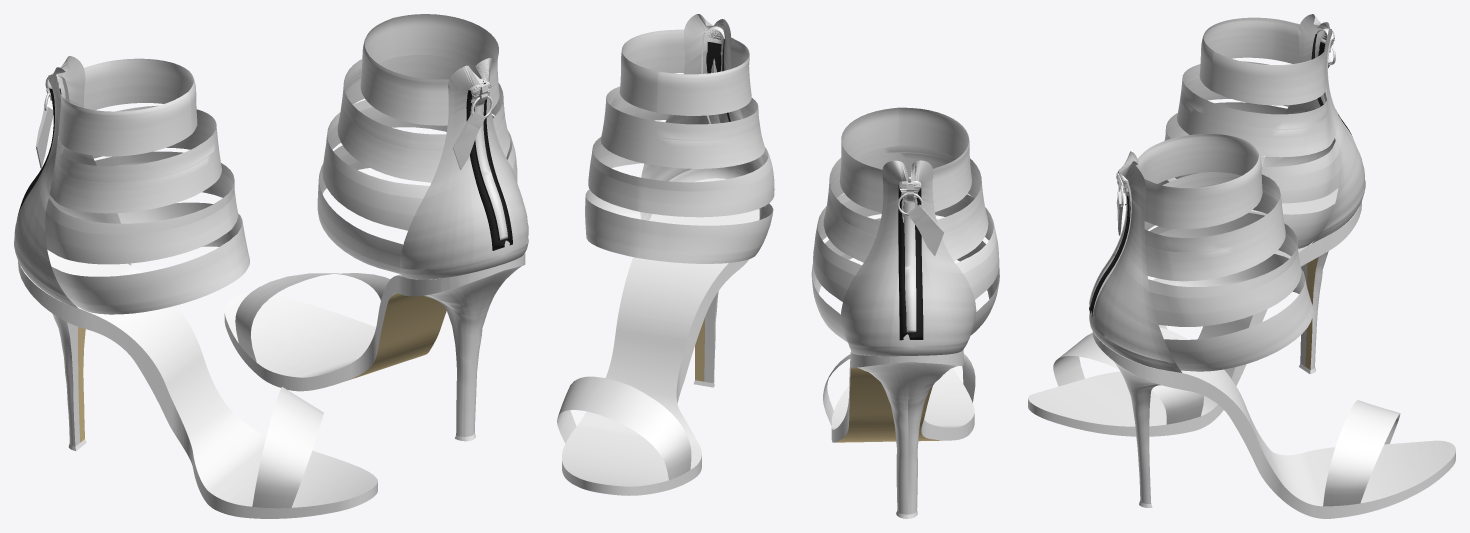
The picture shows the model from 3 angles, left to right: view 1: azimuth 30°, elevation 25°; view 2: azimuth 150°, elevation 25°; view 3: azimuth 270°, elevation 25°; orthographic projection. The views are drawn at different scales.
Parts seen in each view (by area): view 1: Group_029, Group_013, Group_001, Group_027, Group_011, Group_020, Group_032, Group_028, Group_016, Group_017, Group_004, Group_031 (+7 smaller); view 2: Group_013, Group_017, Group_027, Group_011, Group_016, Group_029, Group_012, Group_004, Group_032, Group_015, Group_019, Group_001 (+7 smaller); view 3: Group_013, Group_029, Group_011, Group_027, Group_016, Group_001, Group_004, Group_032, Group_012, Group_017, Group_015, Group_020 (+6 smaller).
Part boxes in pixels (x1,y1,x2,y2): Group_029: [18, 250, 377, 518]; Group_013: [224, 253, 525, 391]; Group_001: [400, 58, 528, 279]; Group_027: [58, 58, 197, 156]; Group_011: [360, 14, 499, 125]; Group_020: [45, 151, 238, 264]; Group_032: [49, 105, 221, 213]; Group_028: [51, 202, 249, 314]; Group_016: [337, 54, 510, 182]; Group_017: [14, 56, 131, 307]; Group_004: [322, 100, 517, 230]; Group_031: [252, 387, 323, 508]; Group_013: [562, 178, 759, 495]; Group_017: [840, 160, 976, 356]; Group_027: [839, 107, 971, 213]; Group_011: [619, 29, 751, 115]; Group_016: [600, 86, 764, 168]; Group_029: [831, 349, 974, 442]; Group_012: [585, 189, 773, 263]; Group_004: [588, 137, 774, 217]; Group_032: [823, 145, 988, 262]; Group_015: [557, 376, 691, 479]; Group_019: [851, 363, 959, 518]; Group_001: [640, 14, 765, 220]; Group_013: [1092, 327, 1455, 518]; Group_029: [1028, 188, 1361, 436]; Group_011: [1137, 134, 1262, 229]; Group_027: [1199, 17, 1325, 105]; Group_016: [1144, 172, 1285, 281]; Group_001: [1089, 151, 1181, 372]; Group_004: [1148, 213, 1301, 326]; Group_032: [1177, 61, 1334, 157]; Group_012: [1153, 254, 1313, 371]; Group_017: [1262, 14, 1365, 243]; Group_015: [1323, 400, 1400, 506]; Group_020: [1164, 102, 1339, 203].
Bounding box in the file's own units: 2002 × 1694 × 1885.
